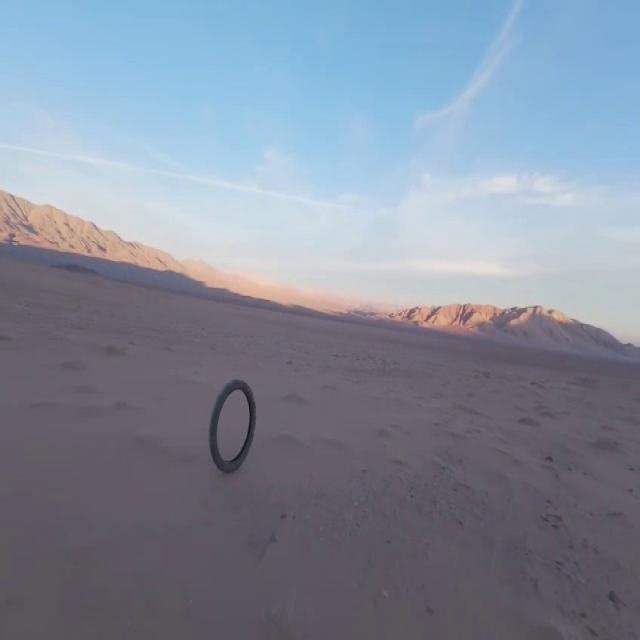Tire: (210, 379, 256, 473)
